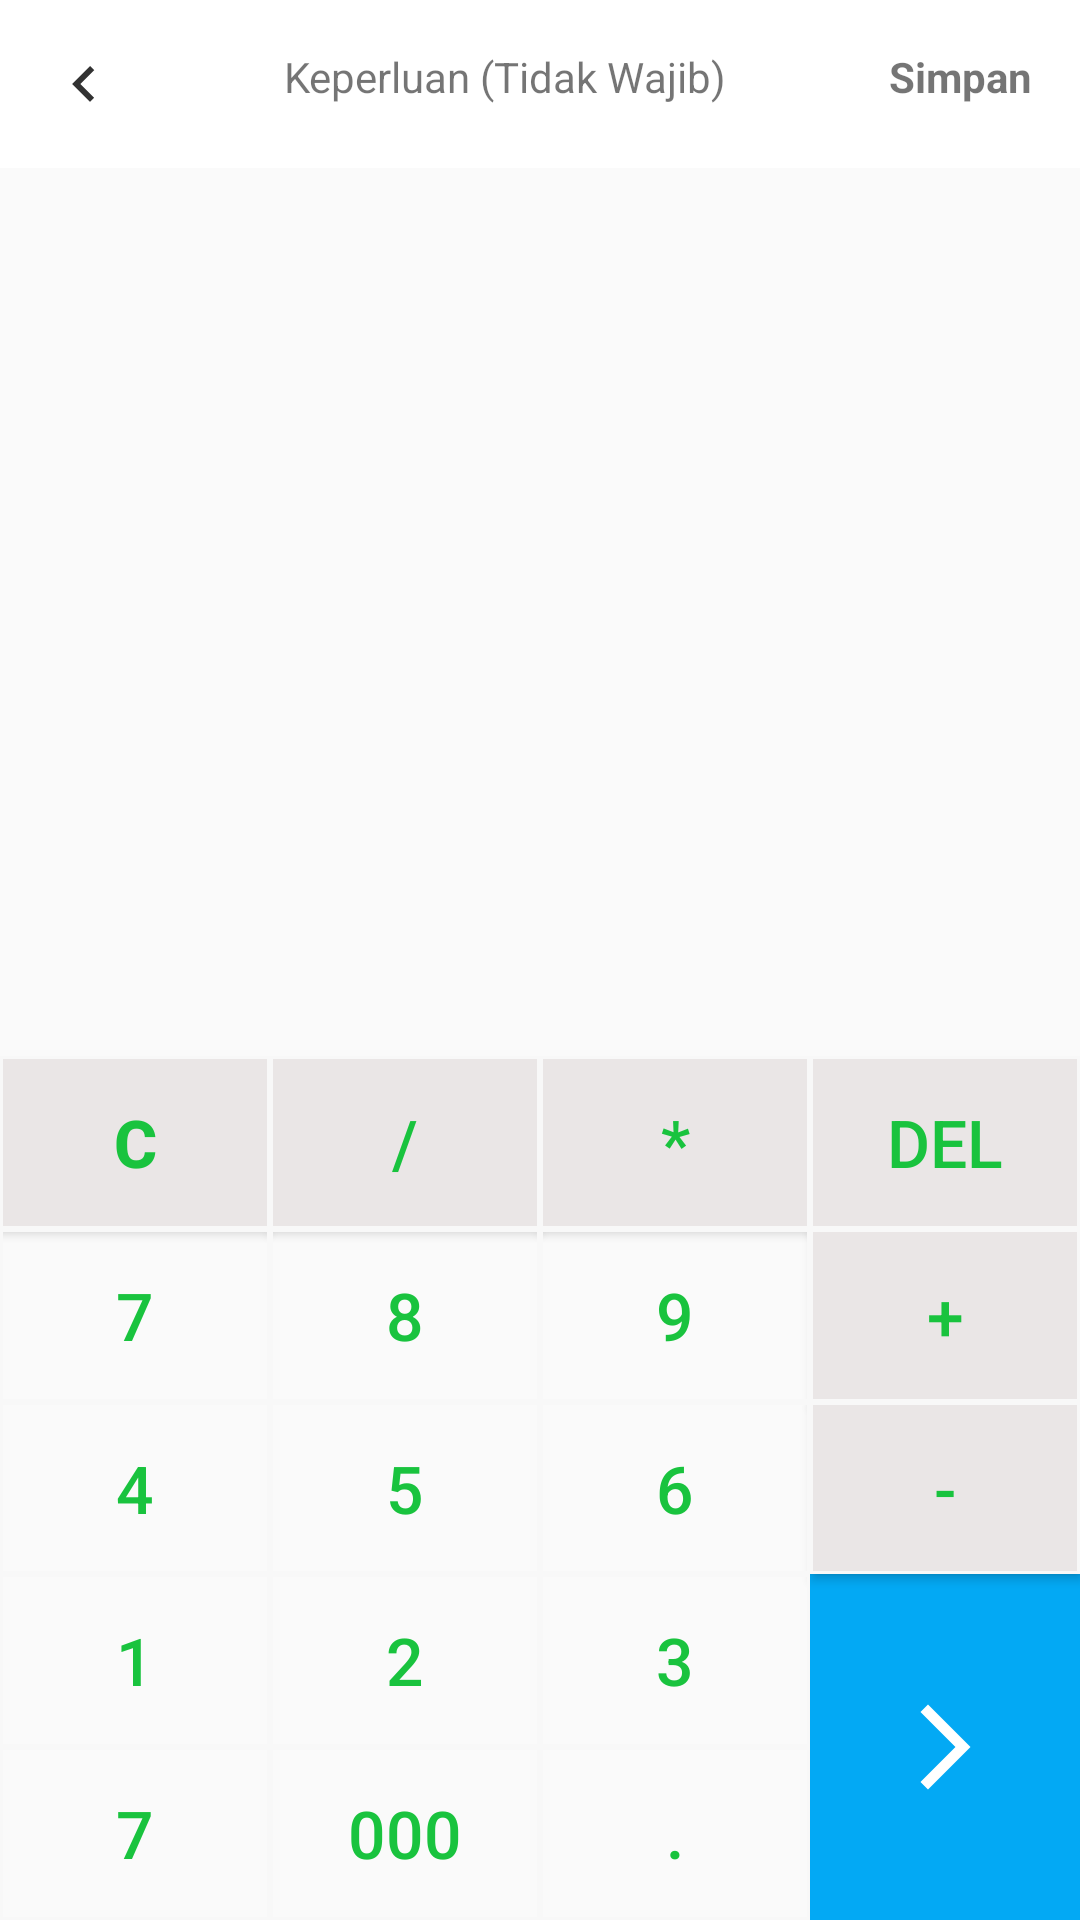

Screen size 1080w x 1920h. Icon name, then its center in pixels as (x,y):
arrow forward: (945,1747)
back arrow: (83,84)
